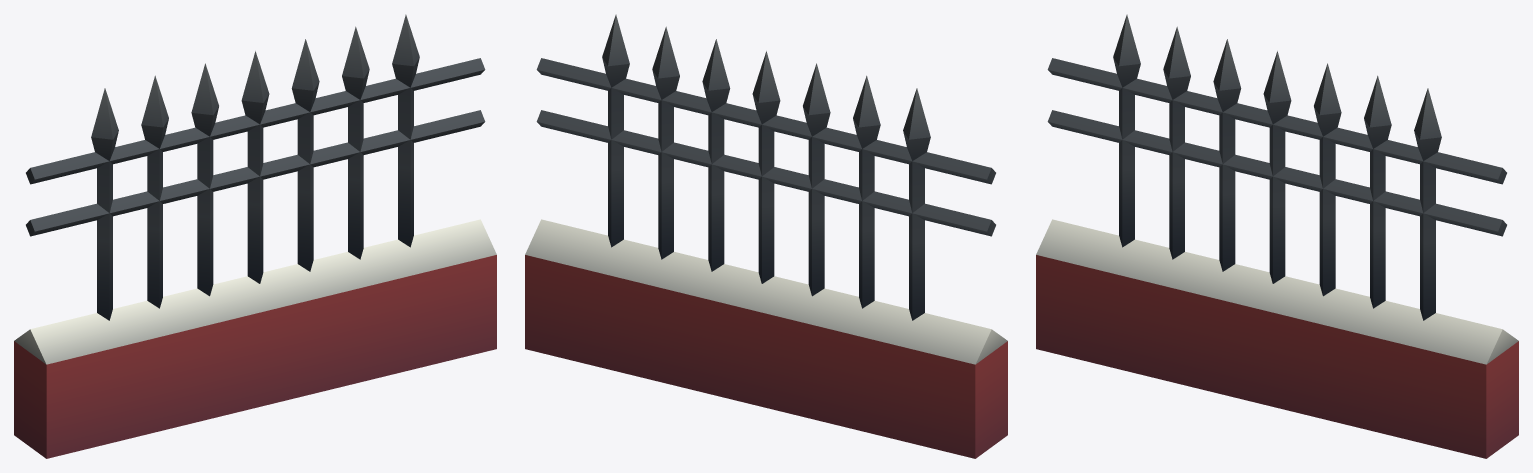
The model's file is Wall_IronFence_01.fbx.
3 views of the same model, side by side, from view 1: azimuth 30°, elevation 25°; view 2: azimuth 150°, elevation 25°; view 3: azimuth 330°, elevation 25° (orthographic).
Parts seen in each view (by area): view 1: Wall_IronFence_01; view 2: Wall_IronFence_01; view 3: Wall_IronFence_01.
Part boxes in pixels (x1,y1,x2,y2): Wall_IronFence_01: (14, 14, 496, 458); Wall_IronFence_01: (525, 14, 1007, 458); Wall_IronFence_01: (1036, 14, 1518, 458).
Size of the model in its own units: 400 by 290 by 50.
